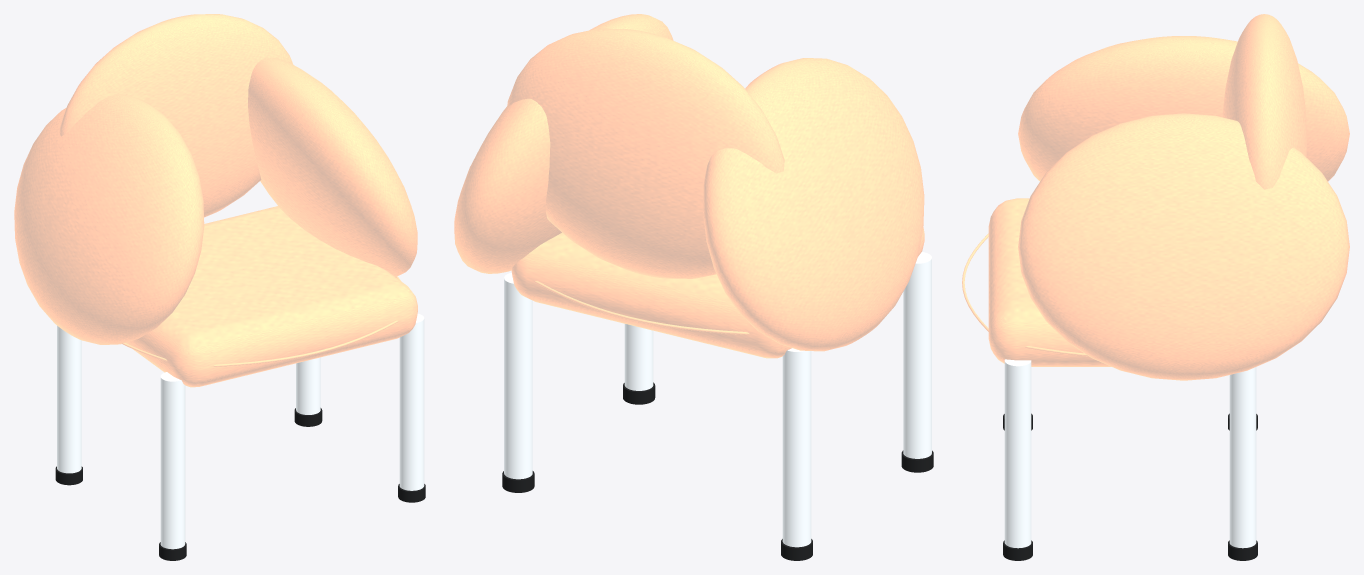
File: ref05_08.glb
The picture shows the model from 3 angles, left to right: view 1: azimuth 30°, elevation 25°; view 2: azimuth 150°, elevation 25°; view 3: azimuth 270°, elevation 25°; orthographic projection. The views are drawn at different scales.
Parts seen in each view (by area): view 1: ref05_08; view 2: ref05_08; view 3: ref05_08.
Boxes of the visible parts, <box> form: ref05_08: <box>14,14,425,560</box>; ref05_08: <box>454,14,933,560</box>; ref05_08: <box>962,14,1349,560</box>.
Bounding box in the file's own units: 0.7679 × 0.95 × 0.7247.
3 materials, 1 textured.
